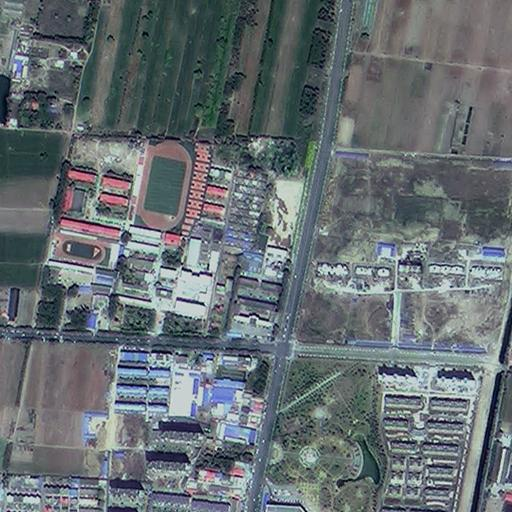school: (106, 138, 236, 336), (227, 173, 304, 341), (47, 135, 137, 270)
